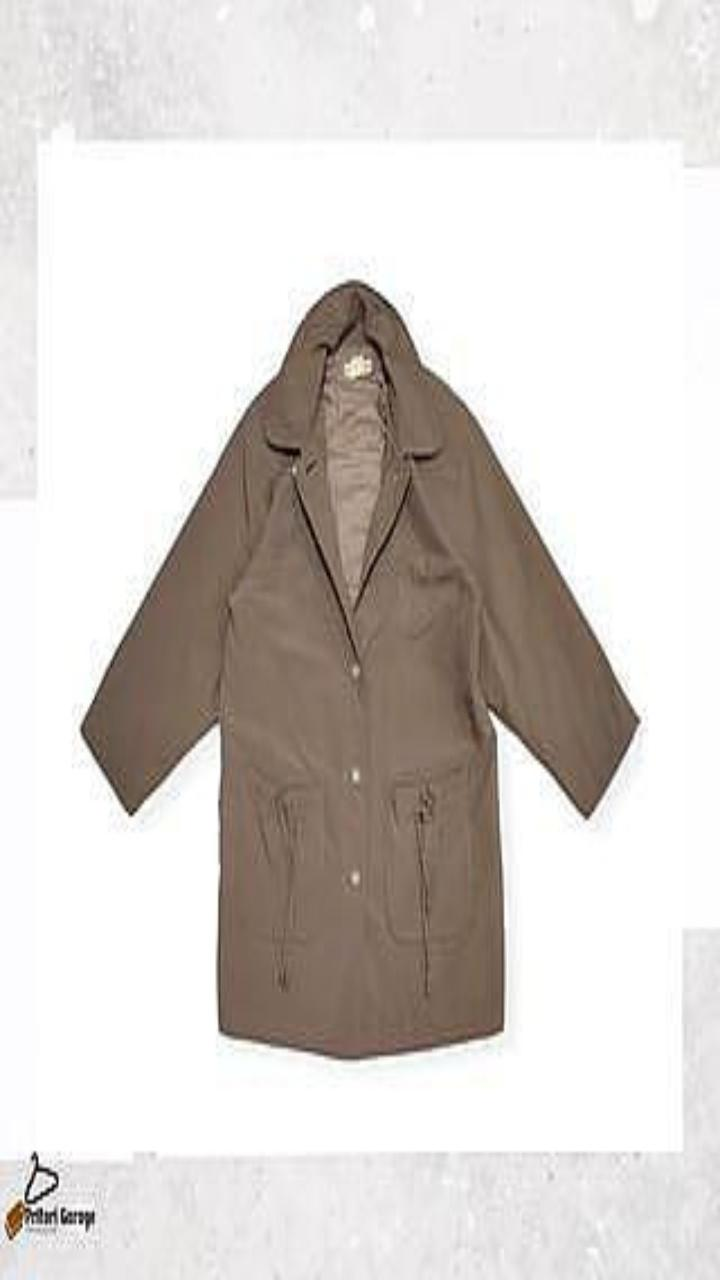Coat: (83, 282, 636, 1055)
